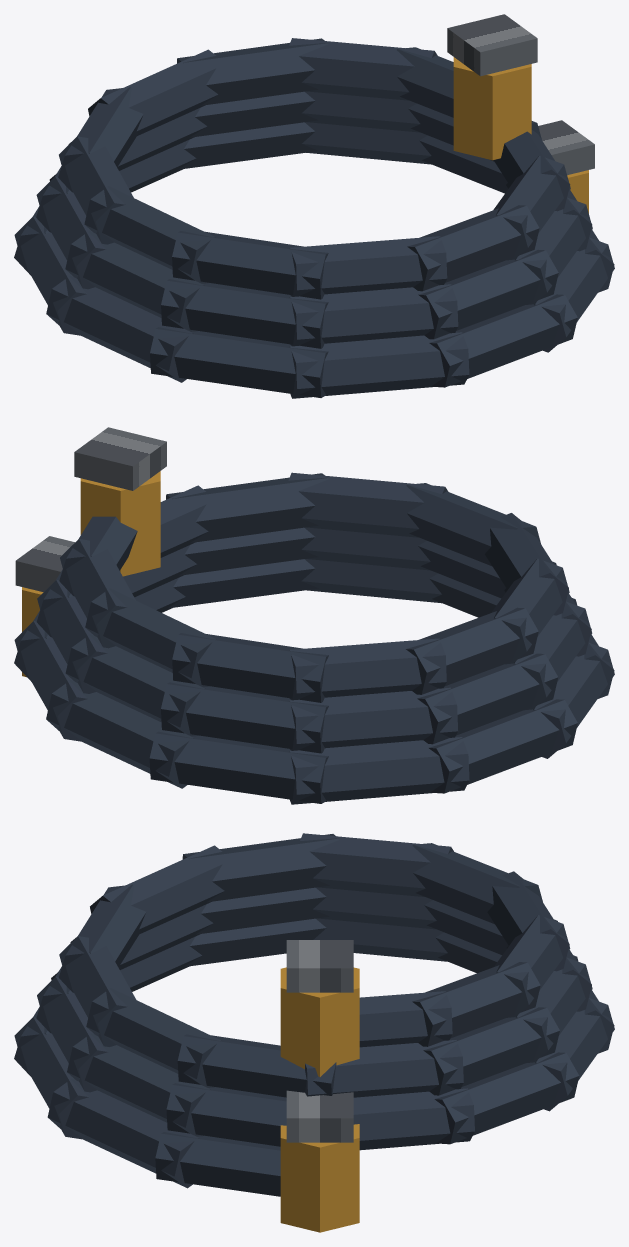
The model's file is repair_parts__hose.glb.
3 renders of one model, top to bottom at view 1: azimuth 30°, elevation 25°; view 2: azimuth 150°, elevation 25°; view 3: azimuth 270°, elevation 25°, orthographic. The views are drawn at different scales.
Parts seen in each view (by area): view 1: _MeshInstance3D_389, _MeshInstance3D_391, _MeshInstance3D_390; view 2: _MeshInstance3D_389, _MeshInstance3D_390, _MeshInstance3D_391; view 3: _MeshInstance3D_389, _MeshInstance3D_391, _MeshInstance3D_390.
Part boxes in pixels (x1,y1,x2,y2): _MeshInstance3D_389: (14, 38, 614, 398); _MeshInstance3D_391: (453, 57, 588, 213); _MeshInstance3D_390: (447, 14, 594, 175); _MeshInstance3D_389: (14, 472, 614, 804); _MeshInstance3D_390: (15, 427, 166, 592); _MeshInstance3D_391: (22, 471, 160, 677); _MeshInstance3D_389: (14, 833, 614, 1196); _MeshInstance3D_391: (280, 967, 359, 1232); _MeshInstance3D_390: (286, 940, 353, 1142).
Bounding box in the file's own units: 0.468 × 0.19 × 0.4482.
Materials: 3 (1 with a texture image).
